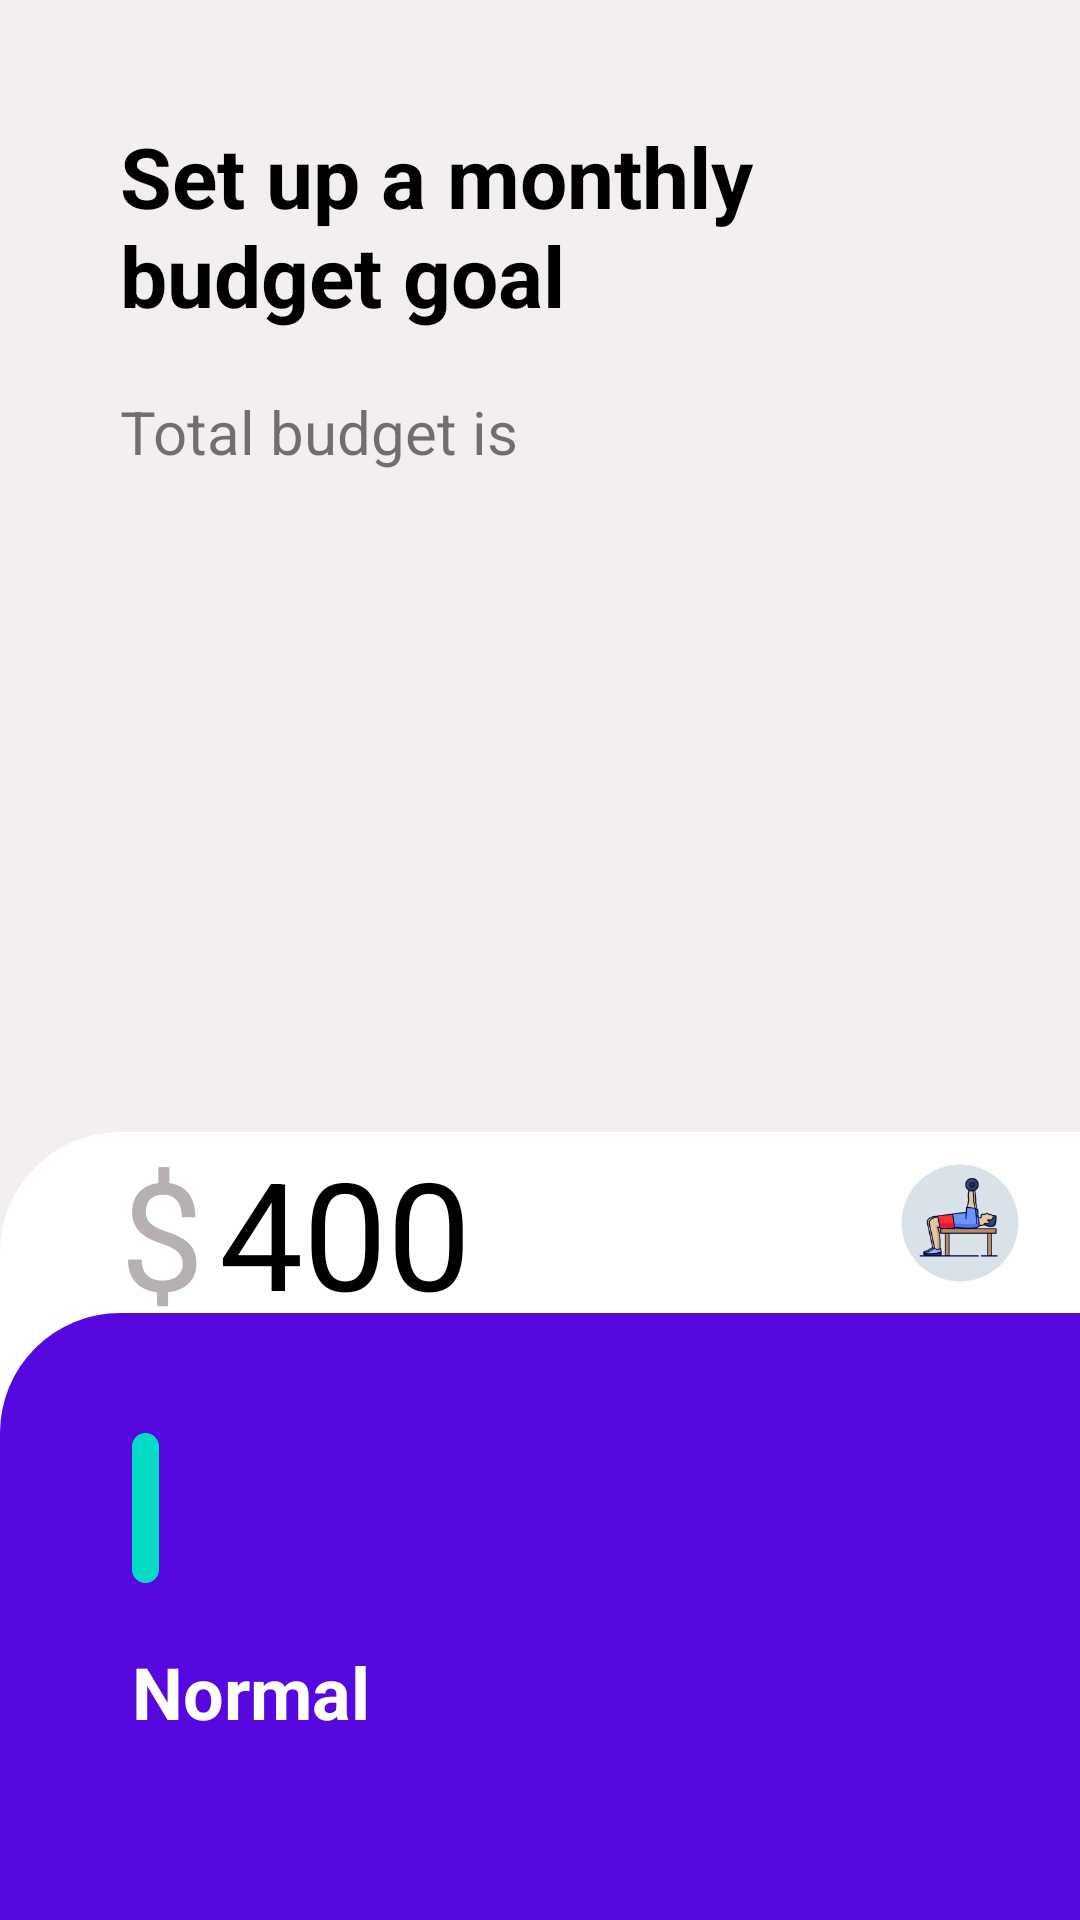

Screen size 1080×1920. Icon name, then its center in pixels as point (x, y):
gym: point (960, 1223)
